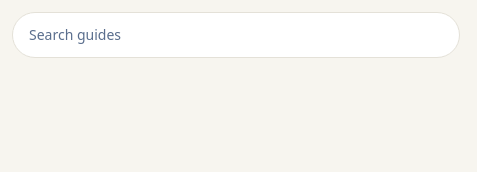
Scenario: ResourceSearch with expanded fields › matches article title
Type "scholarships" into the search field named "Search Resource Center" at (236, 35), box 12,12 -> 460,58
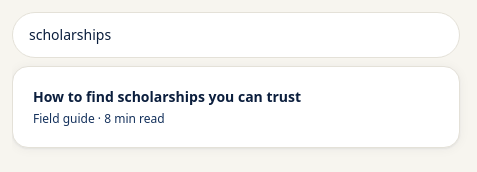
Result: the link "How to find scholarships you can trust" is shown at 33,87 -> 301,127
